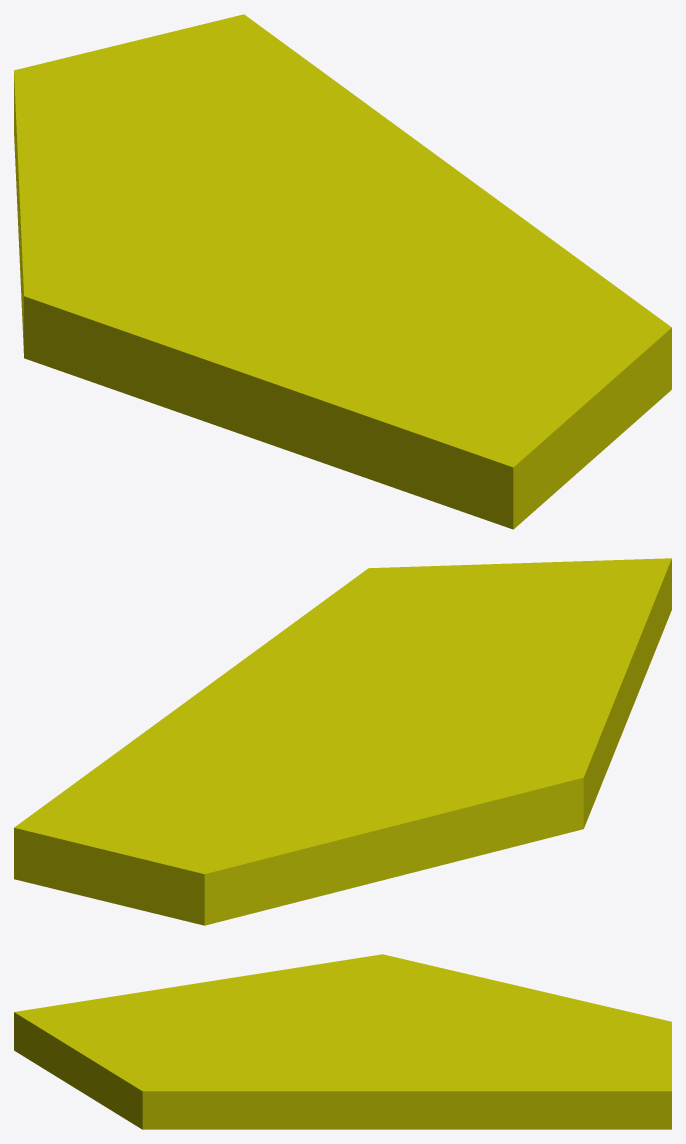
Rendered from x_proval_00_187_1_rmstrd.fbx.
3 views of the same model, one above another, from view 1: azimuth 30°, elevation 25°; view 2: azimuth 150°, elevation 25°; view 3: azimuth 270°, elevation 25° (orthographic). The views are drawn at different scales.
Parts seen in each view (by area): view 1: x_proval_00_187_1_rmstrd1; view 2: x_proval_00_187_1_rmstrd1; view 3: x_proval_00_187_1_rmstrd1.
Part boxes in pixels (x1,y1,x2,y2): x_proval_00_187_1_rmstrd1: [14, 14, 671, 529]; x_proval_00_187_1_rmstrd1: [14, 558, 671, 925]; x_proval_00_187_1_rmstrd1: [14, 954, 671, 1129].
Size of the model in its own units: 1.53 by 0.2 by 3.1.
